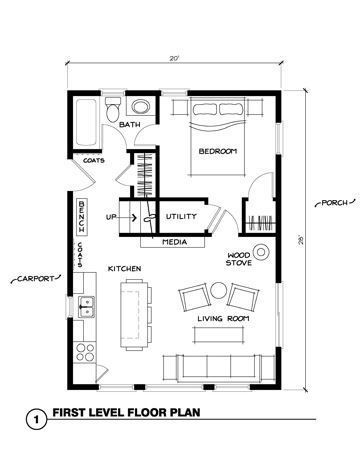door: (63, 159, 96, 194), (242, 170, 278, 200), (206, 210, 243, 238), (138, 118, 167, 153), (98, 123, 131, 153), (115, 166, 144, 189), (88, 363, 113, 385)
room: (58, 228, 284, 394), (158, 88, 283, 237), (60, 84, 162, 238)
wall: (273, 153, 290, 288), (116, 189, 213, 205), (63, 193, 78, 296), (151, 138, 165, 238), (66, 89, 81, 164), (67, 318, 81, 394), (186, 85, 284, 95), (118, 229, 213, 239), (272, 348, 286, 392), (126, 147, 154, 163), (128, 87, 162, 99), (248, 382, 274, 396), (276, 93, 287, 125), (156, 96, 166, 130), (131, 379, 145, 389), (204, 383, 216, 387)
window: (270, 285, 288, 345), (213, 371, 249, 398), (148, 381, 199, 395), (274, 127, 292, 150)
